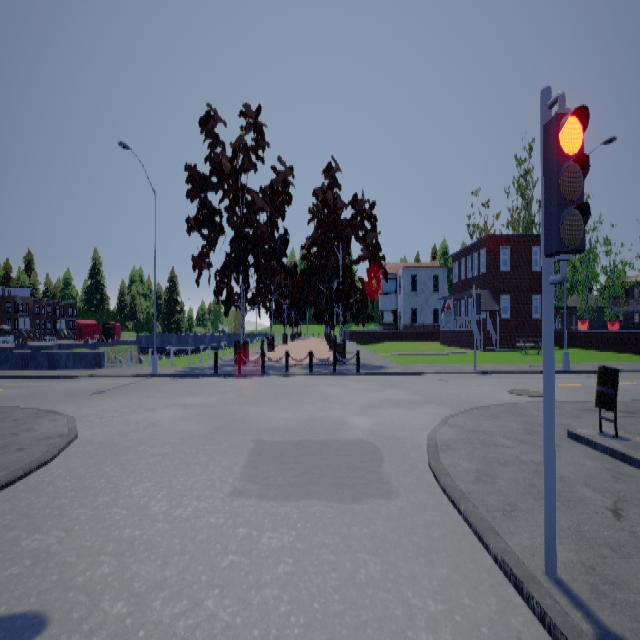red_light: (542, 89, 590, 283)
